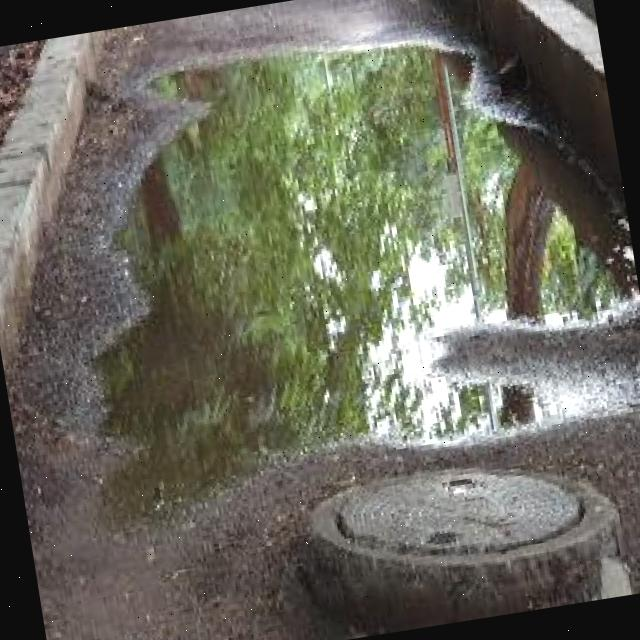stagnation: (79, 34, 626, 516)
